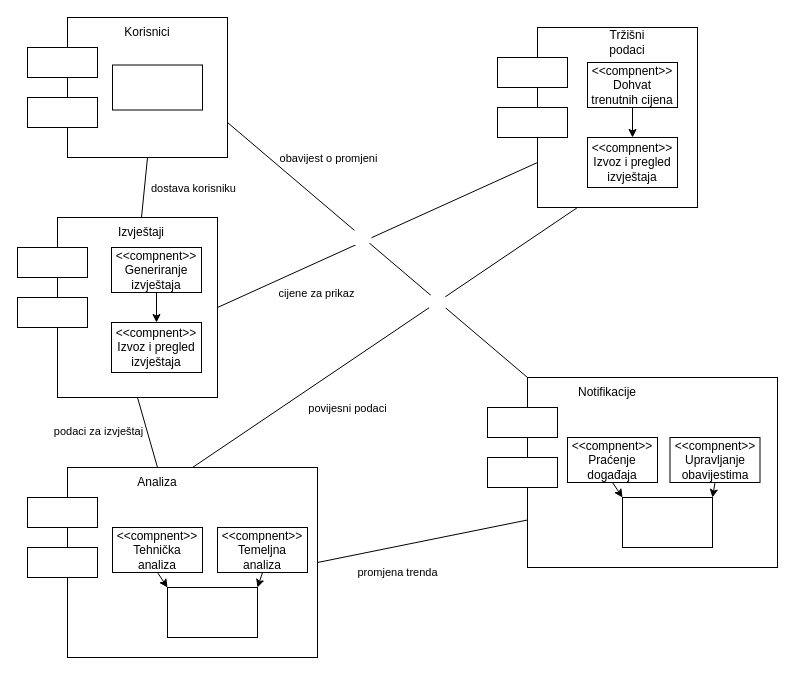
Image size: 795x675. Some labels were removed from this diagram. The centre of each missing label's shape, as x and y in pixels:
"<<compnent>> Generiranje preporuka" goes at [212,612].
"<<compnent>> Korisnik" goes at [157,87].
"<<compnent>> Slanje obavijesti" goes at [667,522].
